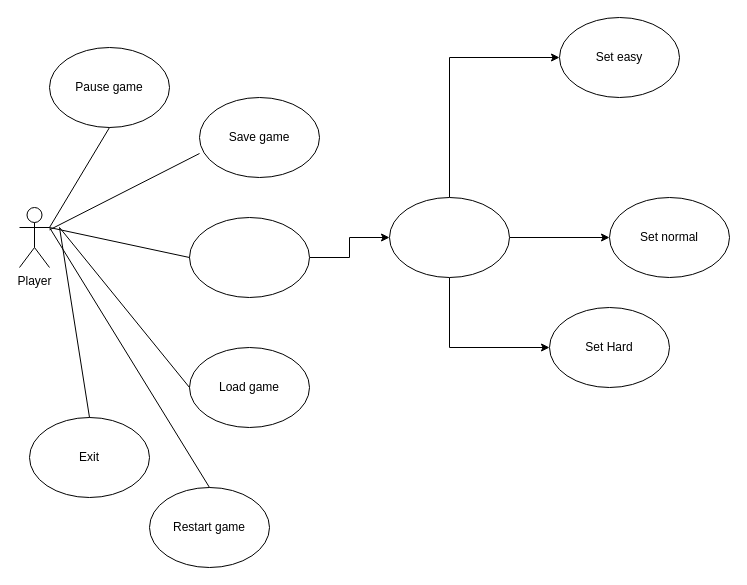
Image size: 747x585. Some labels were removed from this diagram. The box of each missing label's shape, as (x1, y1, x2, y2) in pixels:
New game: (188, 216, 310, 298)
Select skill level: (388, 196, 510, 278)
